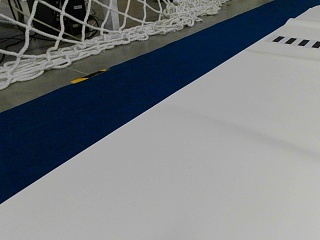crosswalk: (273, 35, 319, 47)
